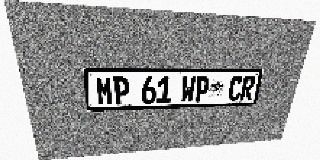1: (156, 76, 172, 104)
6: (141, 76, 157, 104)
C: (227, 76, 244, 101)
M: (95, 77, 113, 106)
P: (113, 77, 129, 105), (194, 76, 210, 102)
R: (239, 76, 256, 101)
W: (180, 76, 196, 103)
